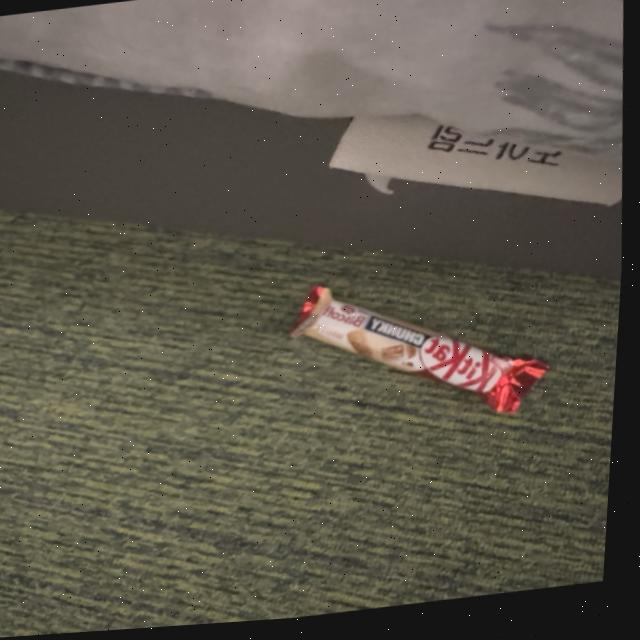chocolate: (271, 262, 569, 453)
